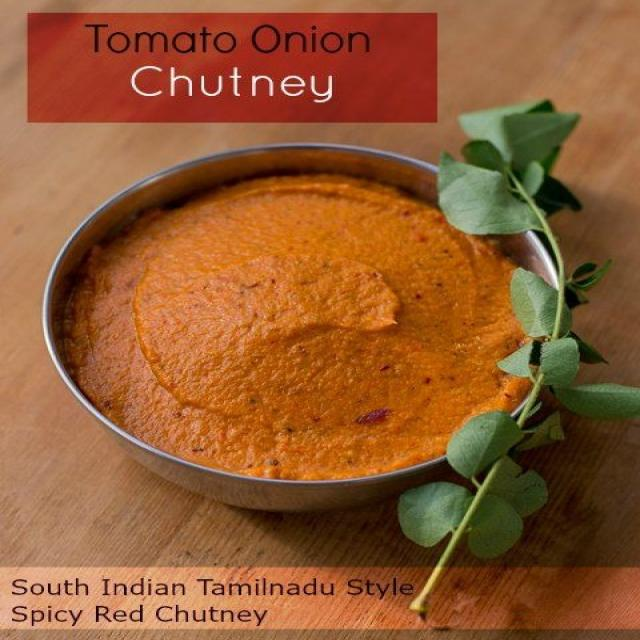kaara chutney: (50, 142, 558, 489)
